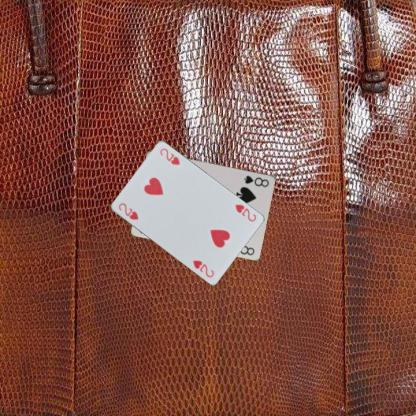2h: (232, 201, 257, 223), (116, 200, 139, 221)
8s: (242, 172, 271, 188)
